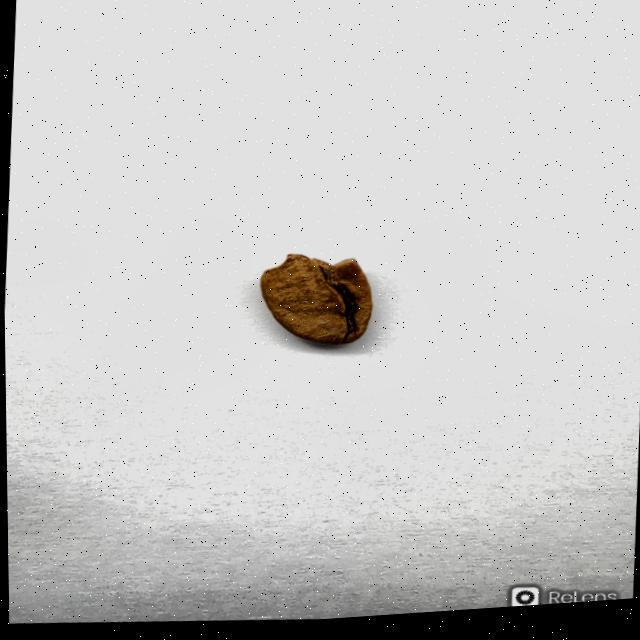Broken: (255, 256, 374, 350)
